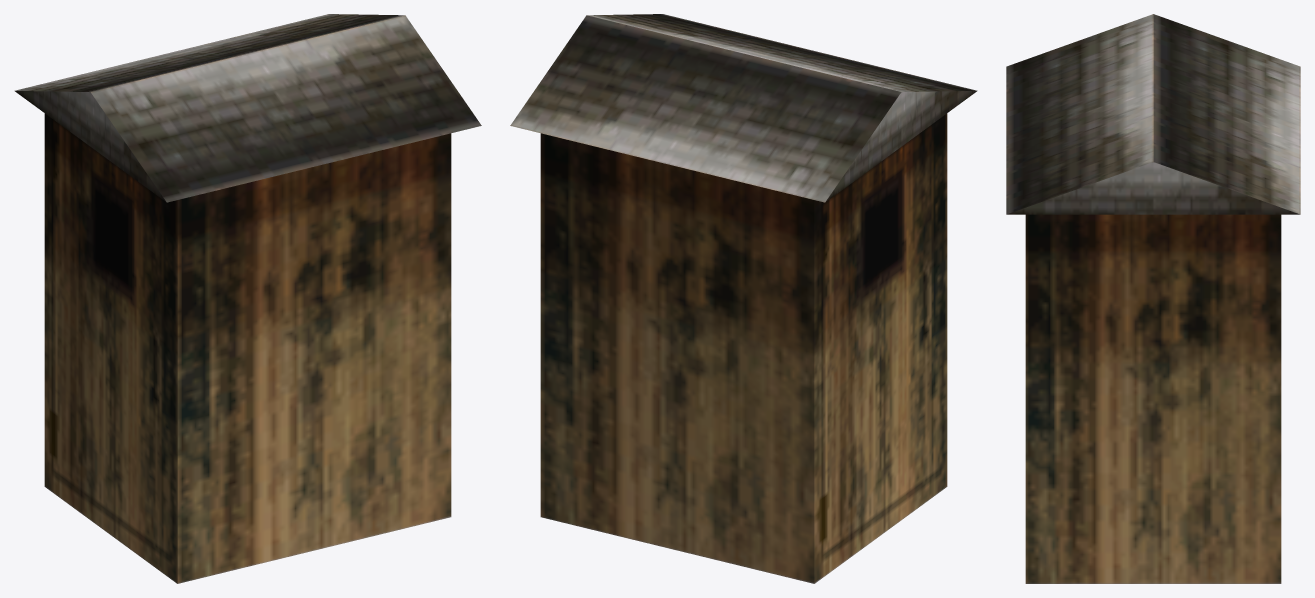
Rendered from Environment - Prop - OUTHOUSE - PMOUTHOUSE.glb.
3 views of the same model, side by side, from view 1: azimuth 30°, elevation 25°; view 2: azimuth 150°, elevation 25°; view 3: azimuth 270°, elevation 25° (orthographic). The views are drawn at different scales.
Visible parts, largest first — view 1: PMOUTHOUSE; view 2: PMOUTHOUSE; view 3: PMOUTHOUSE.
Boxes of the visible parts, bbox=[...] form: PMOUTHOUSE: bbox=[14, 14, 481, 583]; PMOUTHOUSE: bbox=[510, 14, 977, 583]; PMOUTHOUSE: bbox=[1006, 14, 1300, 583].
Size of the model in its own units: 17.63 by 23.98 by 14.82.
Materials: 1 (1 with a texture image).
